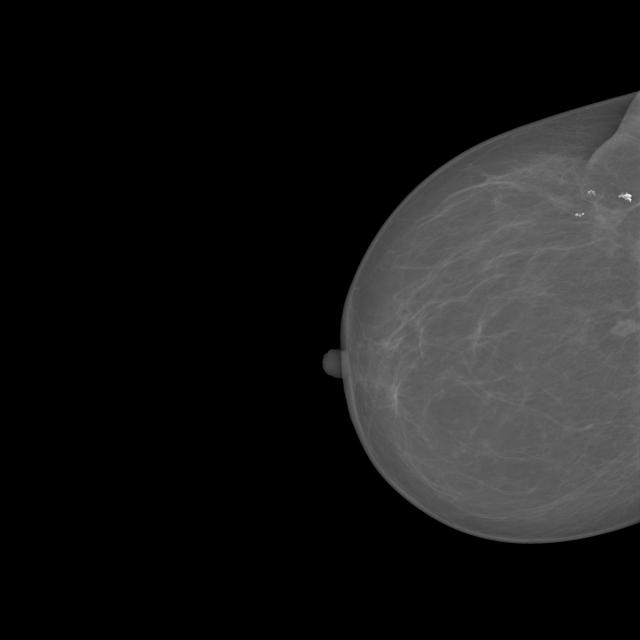Mass_1: (597, 308, 640, 348)
